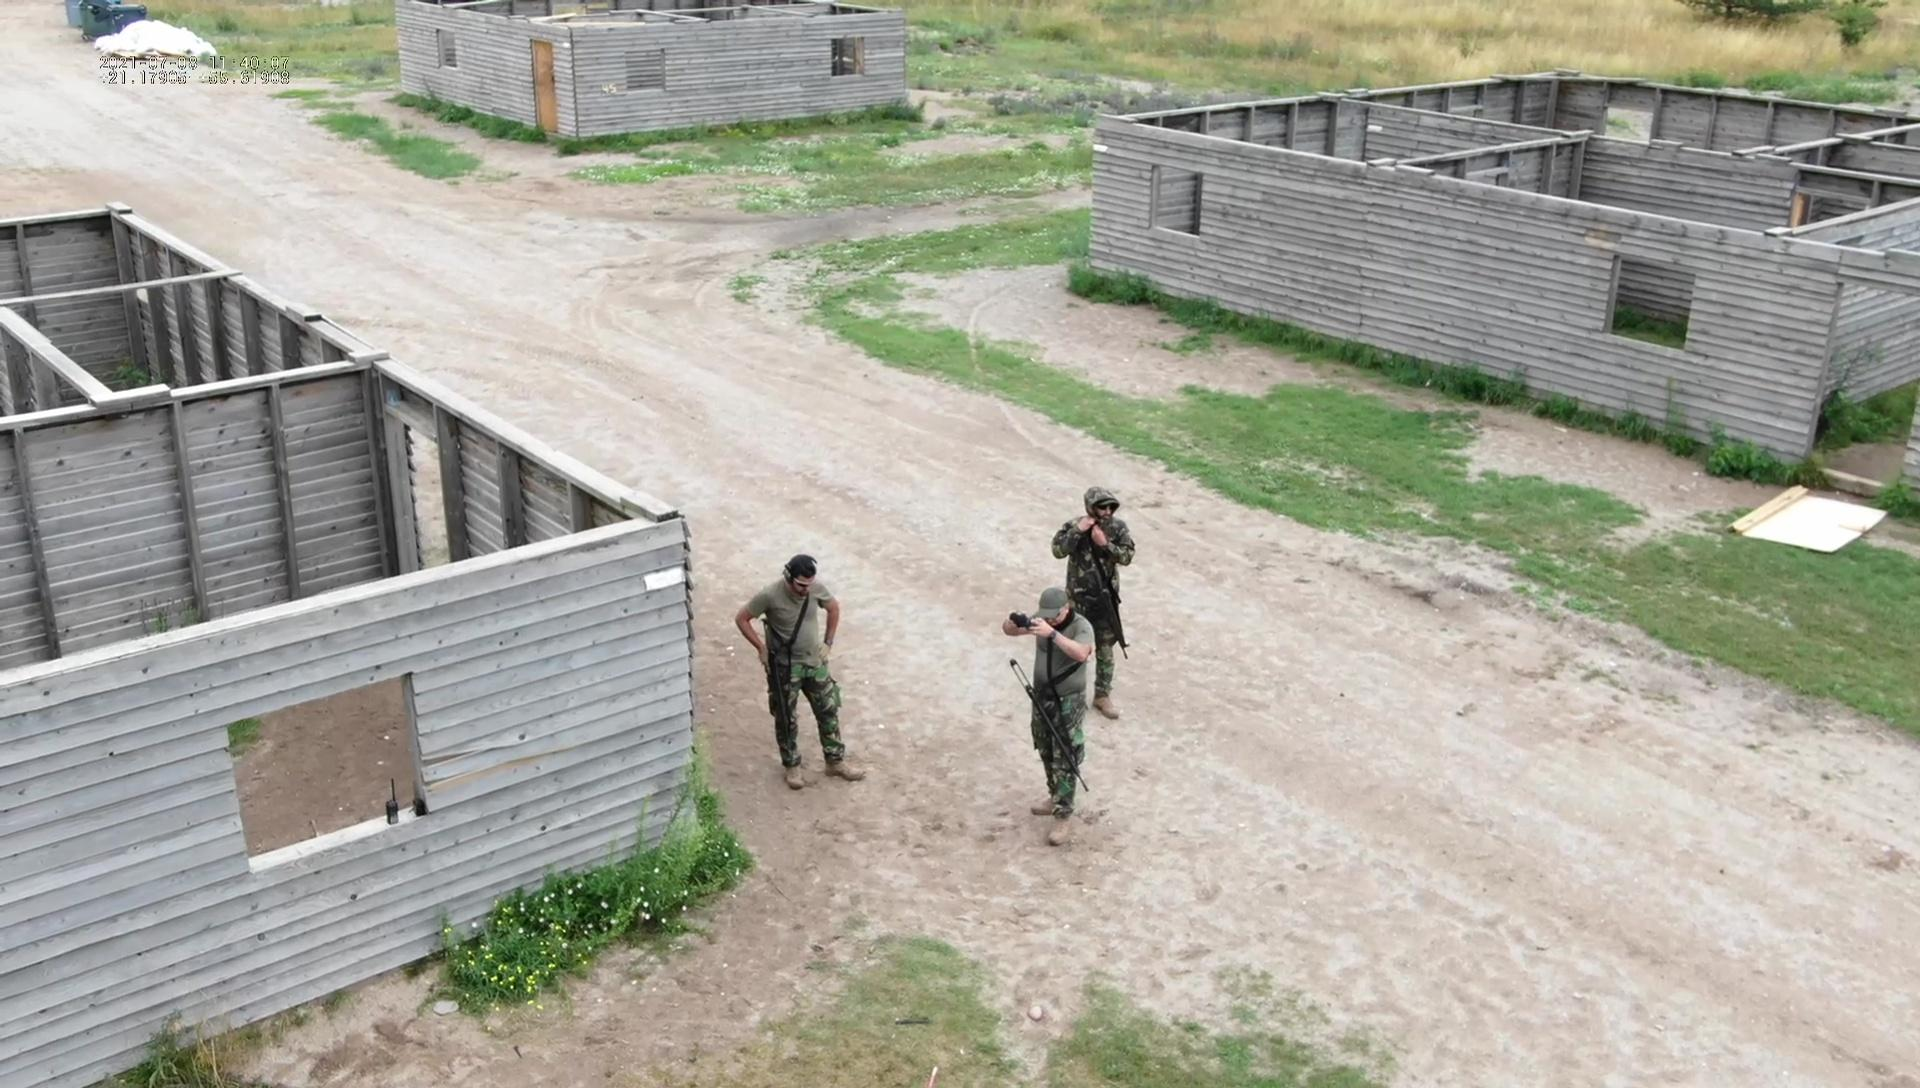Soldier: (732, 554, 872, 793), (1000, 584, 1096, 852), (1048, 483, 1131, 721)
